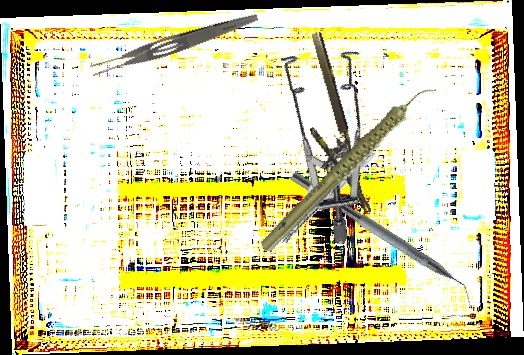Chopper: (280, 170, 486, 311)
Dressing Forceps: (88, 5, 260, 81)
Handpiece: (233, 81, 465, 256)
Needle Holder: (286, 31, 372, 222), (280, 135, 377, 261)
Speculum: (218, 23, 423, 247)
